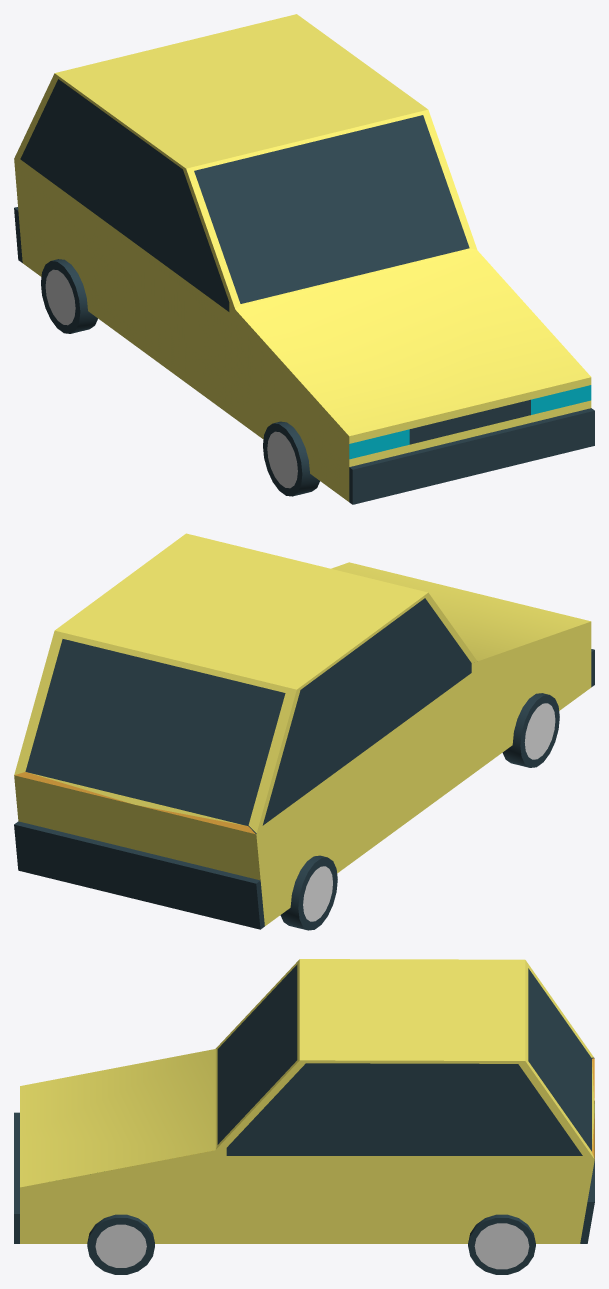
Rendered from Car_03.fbx.
3 renders of one model, top to bottom at view 1: azimuth 30°, elevation 25°; view 2: azimuth 150°, elevation 25°; view 3: azimuth 270°, elevation 25°, orthographic. The views are drawn at different scales.
Visible parts, largest first — view 1: CAR_03; view 2: CAR_03; view 3: CAR_03.
Boxes of the visible parts, x1,y1,x2,y2 form: CAR_03: (14, 14, 594, 504); CAR_03: (14, 533, 594, 930); CAR_03: (14, 959, 594, 1274).
Size of the model in its own units: 65.79 by 60.23 by 150.
1 material, 1 textured.
